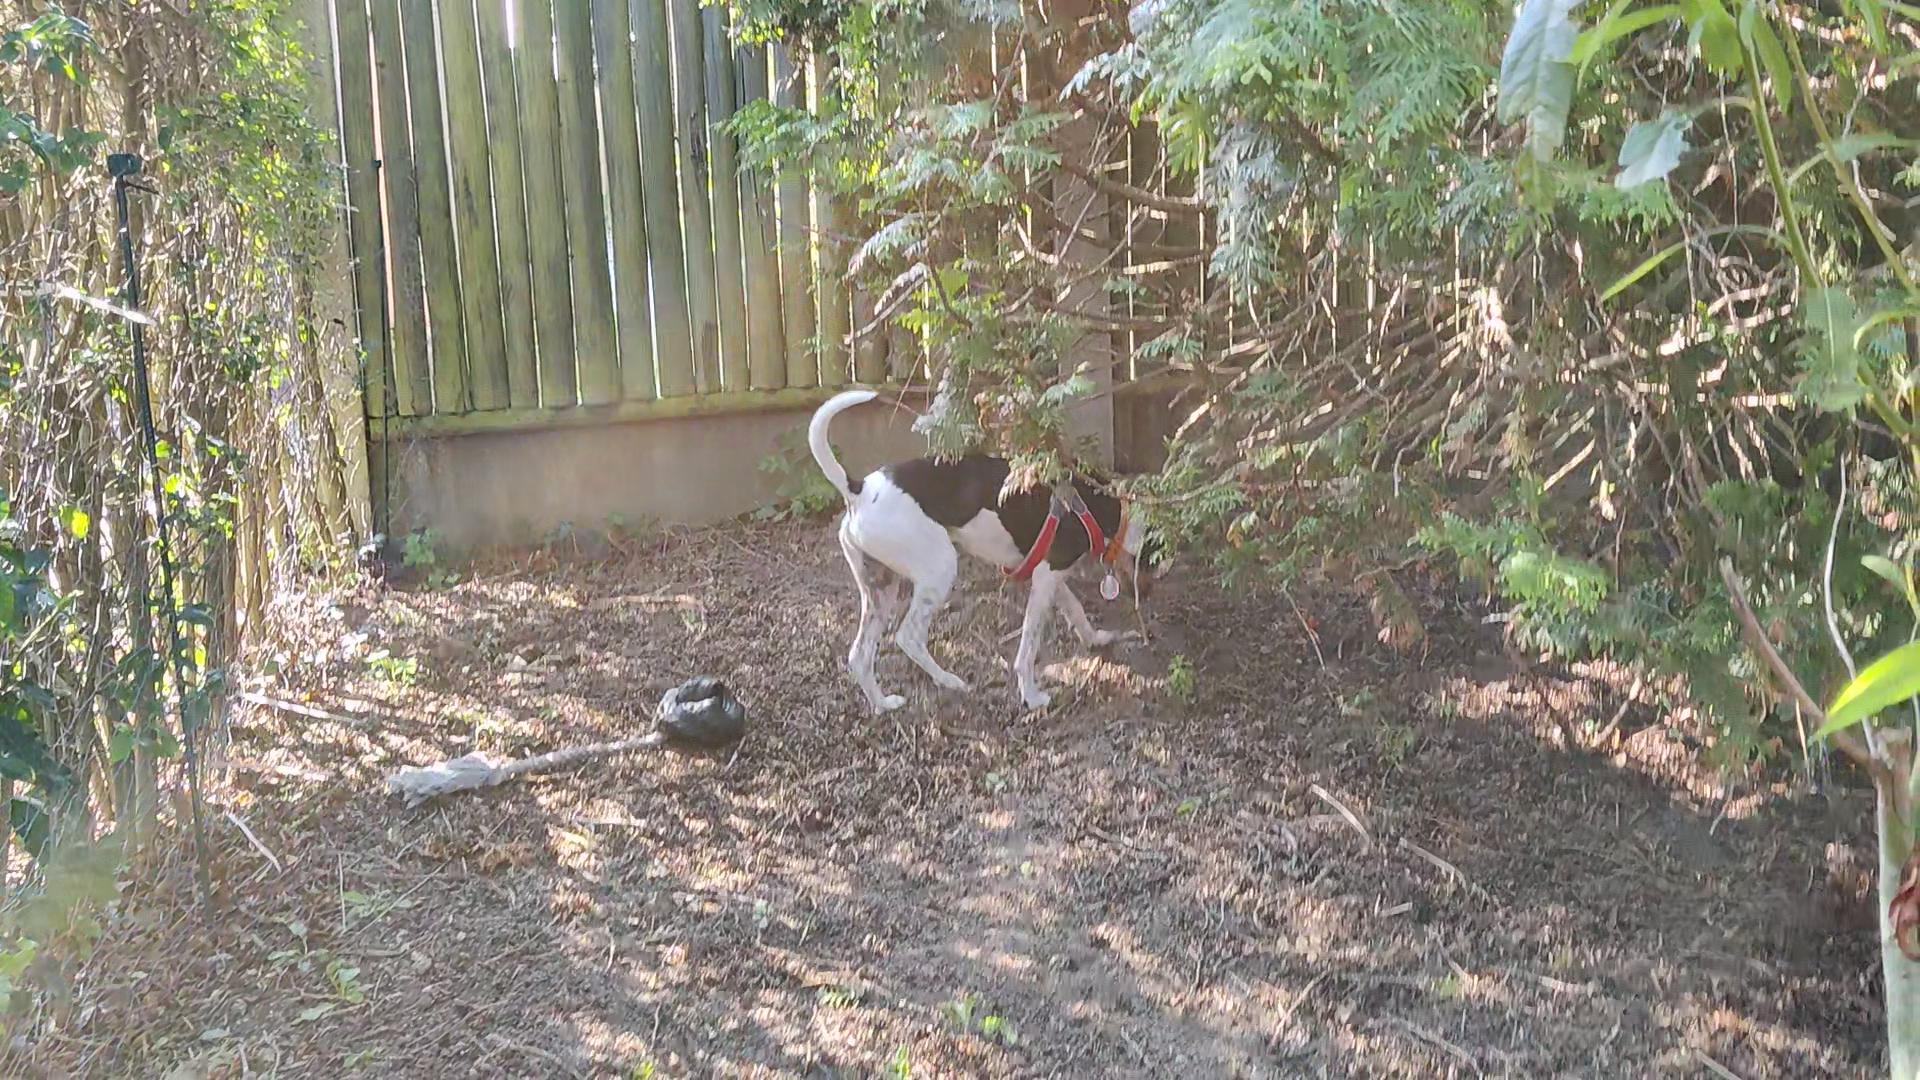Dog: (799, 375, 1175, 724)
